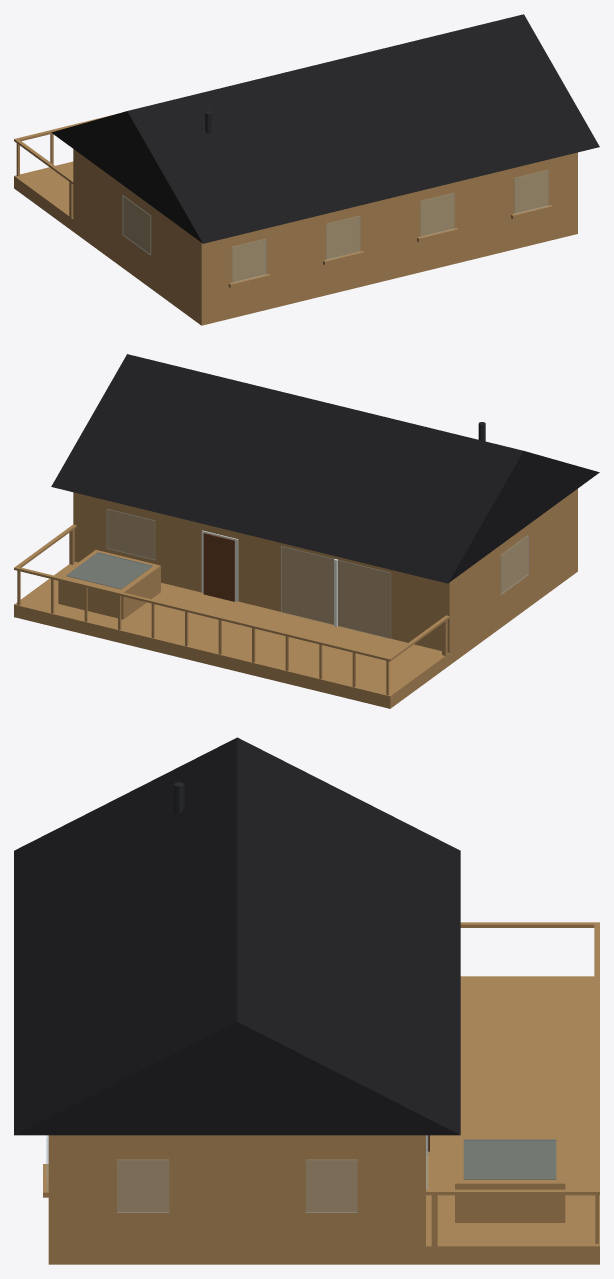
Rendered from context.type.holiday_lodge.glb.
The picture shows the model from 3 angles, top to bottom: view 1: azimuth 30°, elevation 25°; view 2: azimuth 150°, elevation 25°; view 3: azimuth 270°, elevation 25°; orthographic projection. The views are drawn at different scales.
Visible parts, largest first — view 1: roof__roof_felt, walls__softwood, openings__glass, openings__softwood; view 2: roof__roof_felt, walls__softwood, openings__glass, openings__hardwood, walls__water, openings__paint_white; view 3: roof__roof_felt, walls__softwood, openings__glass, walls__water.
Part boxes in pixels (left/top/right/bottom): roof__roof_felt: left=51, top=14, right=599, bottom=243; walls__softwood: left=14, top=115, right=577, bottom=325; openings__glass: left=122, top=170, right=548, bottom=282; openings__softwood: left=228, top=205, right=552, bottom=288; roof__roof_felt: left=51, top=354, right=599, bottom=583; walls__softwood: left=14, top=489, right=577, bottom=708; openings__glass: left=107, top=509, right=528, bottom=638; openings__hardwood: left=203, top=533, right=234, bottom=601; walls__water: left=66, top=552, right=152, bottom=589; openings__paint_white: left=201, top=530, right=337, bottom=626; roof__roof_felt: left=14, top=737, right=460, bottom=1135; walls__softwood: left=48, top=922, right=599, bottom=1264; openings__glass: left=46, top=1135, right=427, bottom=1212; walls__water: left=463, top=1139, right=556, bottom=1179.
Size of the model in its own units: 11.6 by 4.8 by 10.1.
